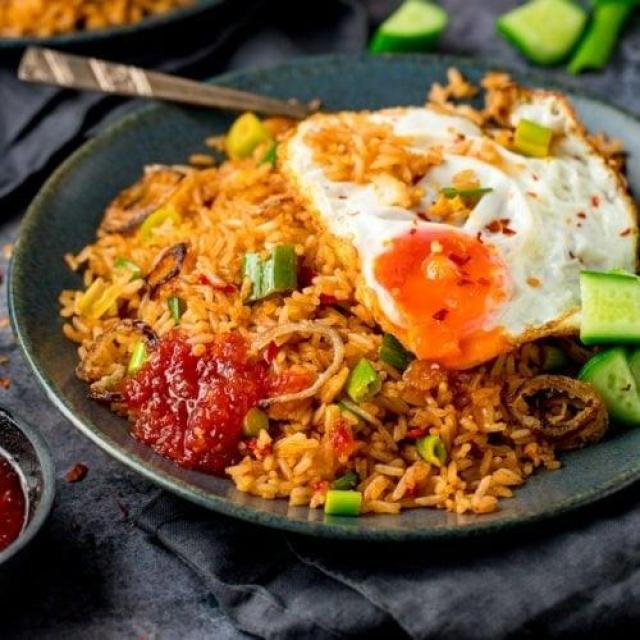Nasi Goreng: (101, 138, 609, 504)
